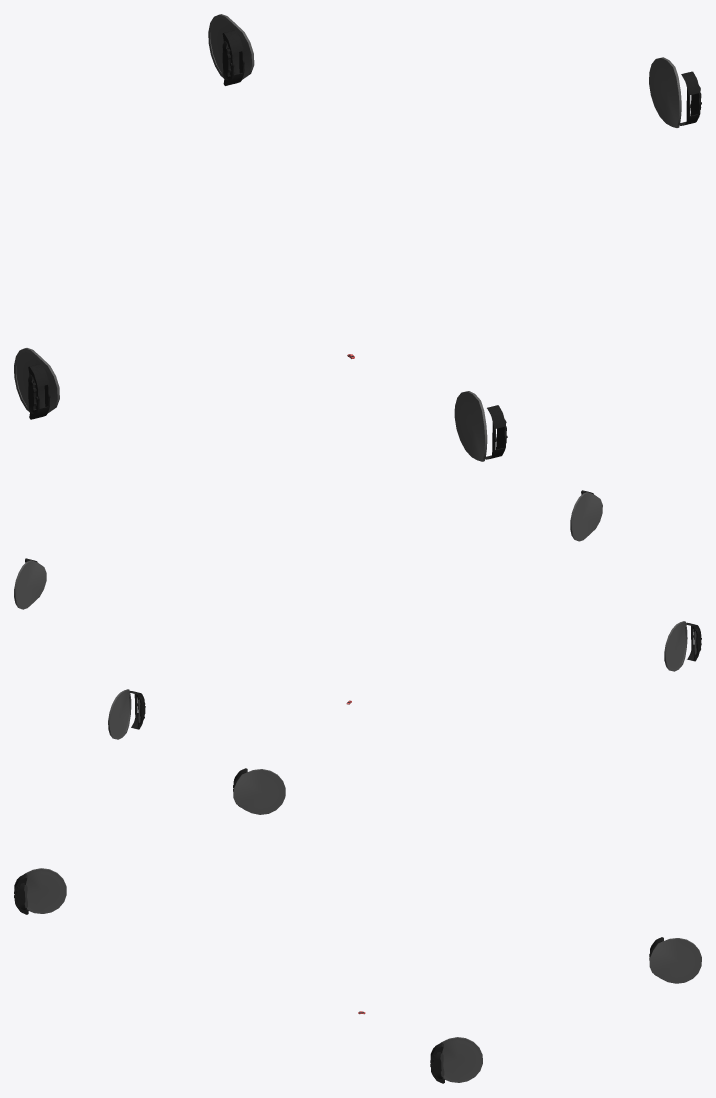
Rendered from traffic_sedan.glb.
3 renders of one model, top to bottom at view 1: azimuth 30°, elevation 25°; view 2: azimuth 150°, elevation 25°; view 3: azimuth 270°, elevation 25°, orthographic. The views are drawn at different scales.
Visible parts, largest first — view 1: Caliper_FR, Caliper_RR, Caliper_FL, Caliper_RL; view 2: Caliper_FL, Caliper_RL, Caliper_RR, Caliper_FR; view 3: Caliper_FR, Caliper_FL, Caliper_RL, Caliper_RR.
Part boxes in pixels (left/top/right/bottom): Caliper_FR: left=649, top=57, right=701, bottom=127; Caliper_RR: left=454, top=391, right=507, bottom=461; Caliper_FL: left=208, top=14, right=254, bottom=85; Caliper_RL: left=14, top=348, right=59, bottom=419; Caliper_FL: left=108, top=689, right=145, bottom=739; Caliper_RL: left=664, top=621, right=701, bottom=671; Caliper_RR: left=570, top=490, right=602, bottom=541; Caliper_FR: left=14, top=558, right=46, bottom=609; Caliper_FR: left=430, top=1037, right=482, bottom=1083; Caliper_FL: left=649, top=937, right=701, bottom=983; Caliper_RL: left=233, top=768, right=285, bottom=814; Caliper_RR: left=14, top=868, right=66, bottom=914.
Bounding box in the file's own units: 440 × 80.55 × 459.
Materials: 17 (4 with a texture image).
